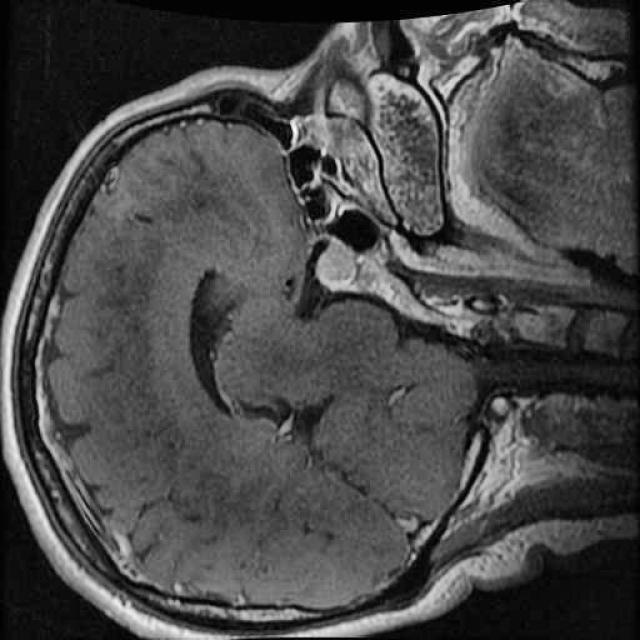Tumor: (304, 223, 369, 304)
